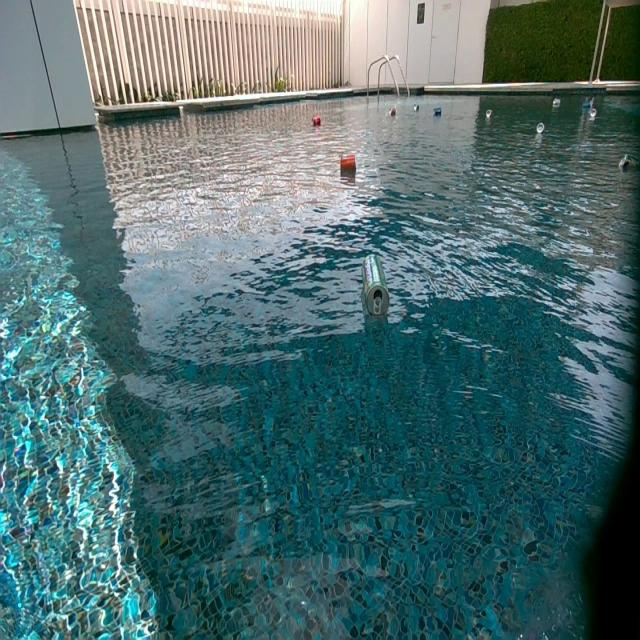Cans: (360, 252, 389, 320), (615, 155, 640, 172), (341, 156, 356, 172), (312, 115, 322, 126), (587, 110, 598, 120), (389, 106, 397, 118), (535, 120, 544, 130), (552, 99, 562, 108), (432, 107, 442, 116), (412, 104, 421, 112), (486, 110, 493, 120), (582, 102, 593, 108)
